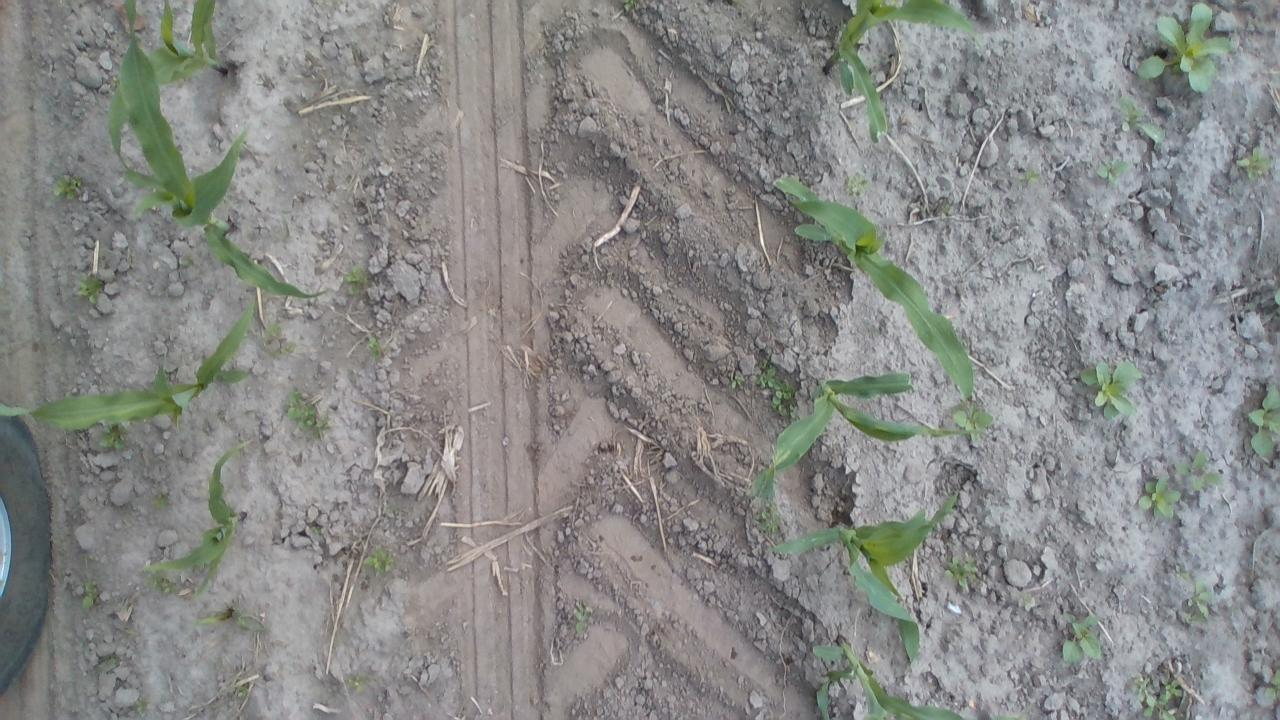Maize: (111, 0, 329, 299), (768, 167, 981, 400), (0, 285, 260, 432), (770, 479, 964, 664), (745, 372, 991, 509), (821, 0, 976, 149), (104, 0, 235, 164), (143, 436, 264, 606), (811, 631, 968, 720), (186, 602, 272, 641)
Weeds: (1135, 0, 1237, 95), (1079, 357, 1146, 421), (276, 386, 337, 442), (1243, 380, 1280, 464), (1118, 93, 1169, 146), (1132, 668, 1186, 718), (1174, 448, 1229, 495), (752, 362, 798, 416), (950, 400, 998, 449), (1060, 613, 1104, 666), (1176, 569, 1214, 630), (1134, 476, 1184, 522), (942, 556, 979, 598), (1233, 143, 1276, 179), (50, 169, 85, 204), (362, 542, 397, 574), (343, 264, 374, 300), (750, 499, 780, 536), (840, 168, 874, 199), (74, 272, 103, 307), (98, 427, 132, 453), (1097, 159, 1126, 188), (363, 330, 388, 362), (147, 570, 174, 598), (572, 599, 592, 634), (78, 578, 100, 608), (346, 671, 372, 696), (148, 488, 172, 514), (1016, 166, 1042, 187), (1263, 669, 1280, 700), (262, 318, 282, 341), (278, 336, 300, 356), (94, 657, 116, 674), (728, 371, 745, 393), (133, 692, 151, 712), (938, 200, 956, 219), (235, 682, 248, 700), (624, 0, 636, 14), (311, 524, 323, 536)
